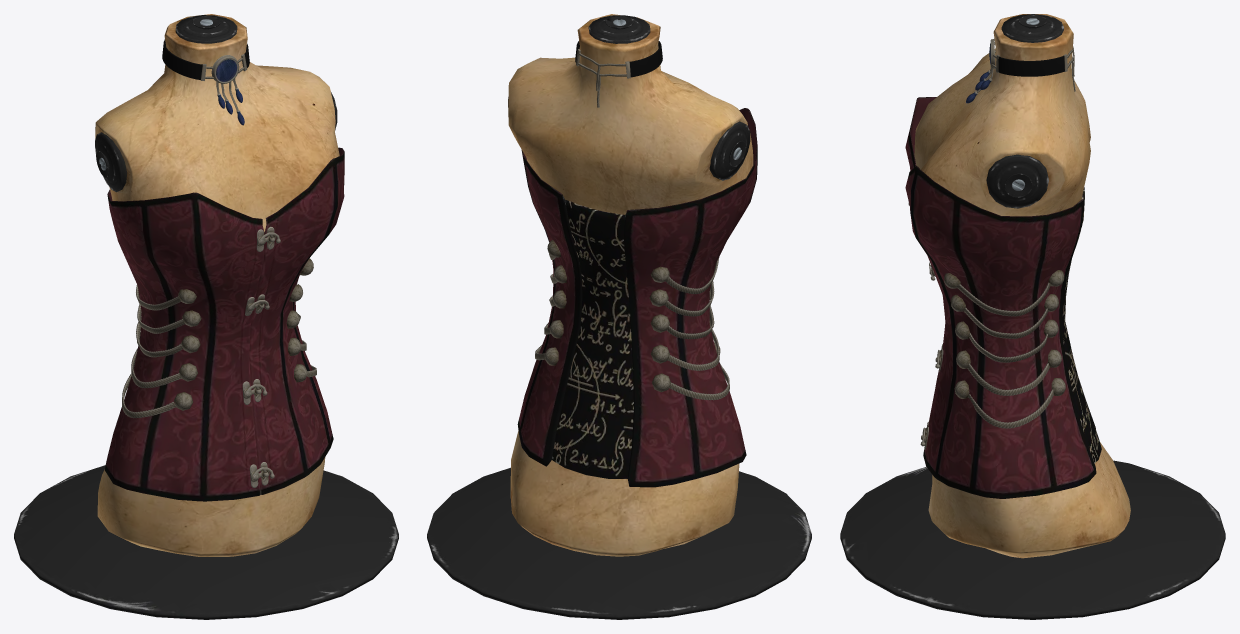
File: corset-opt.glb
The picture shows the model from 3 angles, left to right: view 1: azimuth 30°, elevation 25°; view 2: azimuth 150°, elevation 25°; view 3: azimuth 270°, elevation 25°; orthographic projection.
Parts seen in each view (by area): view 1: Corset; view 2: Corset; view 3: Corset.
Boxes of the visible parts, box(x1,y1,x2,y2) form: Corset: box(14, 14, 398, 619); Corset: box(427, 14, 811, 619); Corset: box(840, 14, 1225, 619).
Bounding box in the file's own units: 0.039 × 0.0578 × 0.039.
Materials: 1 (1 with a texture image).
